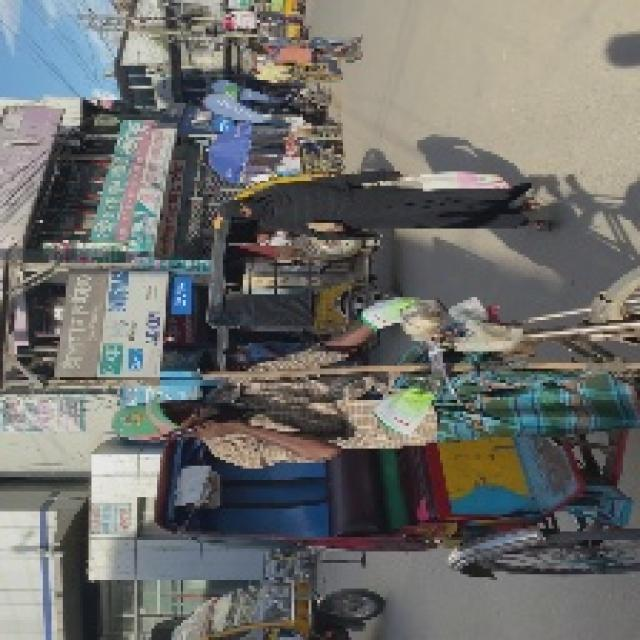rickshaw: (138, 263, 635, 556), (201, 173, 372, 343), (164, 579, 386, 638)
